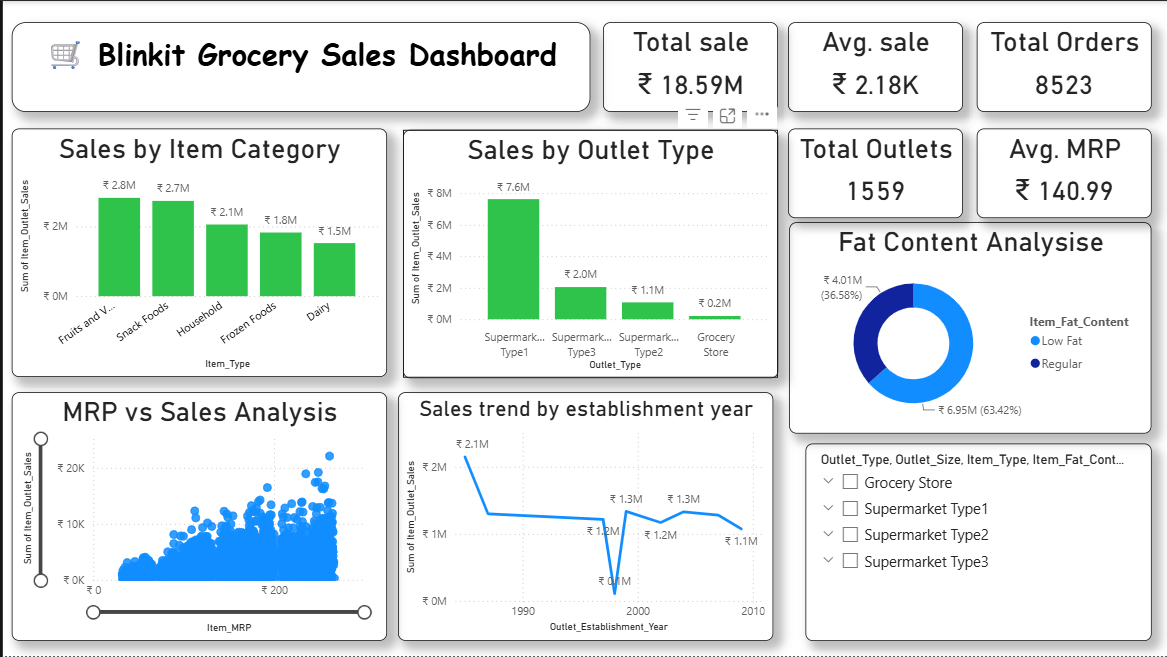

The dashboard page shown, as its layout file describes it:
{"tool":"powerbi","page":{"name":"Page 1","canvas":[1280,720],"ordinal":0},"visuals":[{"type":"card","title":"Total Outlets","fields":{"Values":["Count(Tableau BlinkIT Grocery Project.Item_Identifier)"]},"box":[861.8,140,192.1,98.8],"z":0},{"type":"card","title":"Avg. MRP","fields":{"Values":["Avg(Tableau BlinkIT Grocery Project.Item_MRP)"]},"box":[1069,140,192.1,98.8],"z":1000},{"type":"card","title":"Total sale","fields":{"Values":["Sum(Tableau BlinkIT Grocery Project.Item_Outlet_Sales)"]},"box":[658.7,23.3,192.1,98.8],"z":2000},{"type":"card","title":"Avg. sale","fields":{"Values":["Avg(Tableau BlinkIT Grocery Project.Item_Outlet_Sales)"]},"box":[861.8,23.3,192.1,98.8],"z":3000},{"type":"card","title":"Total Orders","fields":{"Values":["CountNonNull(Tableau BlinkIT Grocery Project.Item_Identifier)"]},"box":[1069,23.3,192.1,98.8],"z":4000},{"type":"clusteredColumnChart","title":"Sales by Item Category","fields":{"Y":["Sum(Tableau BlinkIT Grocery Project.Item_Outlet_Sales)"],"Category":["Tableau BlinkIT Grocery Project.Item_Type"]},"box":[9.6,140,411.7,273.1],"z":5000},{"type":"clusteredColumnChart","title":"Sales by Outlet Type","fields":{"Y":["Sum(Tableau BlinkIT Grocery Project.Item_Outlet_Sales)"],"Category":["Tableau BlinkIT Grocery Project.Outlet_Type"]},"box":[439.1,141.3,411.7,273.1],"z":6000},{"type":"donutChart","title":"Fat Content Analysise","fields":{"Category":["Tableau BlinkIT Grocery Project.Item_Fat_Content"],"Y":["Sum(Tableau BlinkIT Grocery Project.Item_Outlet_Sales)"]},"box":[863.1,242.9,397.9,231.9],"z":7000},{"type":"scatterChart","title":"MRP vs Sales Analysis","fields":{"Y":["Sum(Tableau BlinkIT Grocery Project.Item_Outlet_Sales)"],"X":["Tableau BlinkIT Grocery Project.Item_MRP"]},"box":[9.6,429.5,411.7,273.1],"z":8000},{"type":"lineChart","title":"Sales trend by establishment year","fields":{"Category":["Tableau BlinkIT Grocery Project.Outlet_Establishment_Year"],"Y":["Sum(Tableau BlinkIT Grocery Project.Item_Outlet_Sales)"]},"box":[433.6,429.5,411.7,273.1],"z":9000},{"type":"slicer","title":"Total sale By Outlet Type","fields":{"Values":["Tableau BlinkIT Grocery Project.Outlet_Type","Tableau BlinkIT Grocery Project.Outlet_Size","Tableau BlinkIT Grocery Project.Item_Type","Tableau BlinkIT Grocery Project.Item_Fat_Content"]},"box":[881,485.8,380.1,216.8],"z":10000},{"type":"textbox","box":[9.6,23.3,635.3,98.8],"z":11000}]}

Visuals, with their boxes in screenshot pixels (x1, y1, x2, y2), scaled from the page's 1280x720 canvas onto the 1167x657 screenshot:
"Total Outlets" card: detection(786, 128, 961, 218)
"Avg. MRP" card: detection(975, 128, 1150, 218)
"Total sale" card: detection(601, 21, 776, 111)
"Avg. sale" card: detection(786, 21, 961, 111)
"Total Orders" card: detection(975, 21, 1150, 111)
"Sales by Item Category" clusteredColumnChart: detection(9, 128, 384, 377)
"Sales by Outlet Type" clusteredColumnChart: detection(400, 129, 776, 378)
"Fat Content Analysise" donutChart: detection(787, 222, 1150, 433)
"MRP vs Sales Analysis" scatterChart: detection(9, 392, 384, 641)
"Sales trend by establishment year" lineChart: detection(395, 392, 771, 641)
"Total sale By Outlet Type" slicer: detection(803, 443, 1150, 641)
textbox: detection(9, 21, 588, 111)
